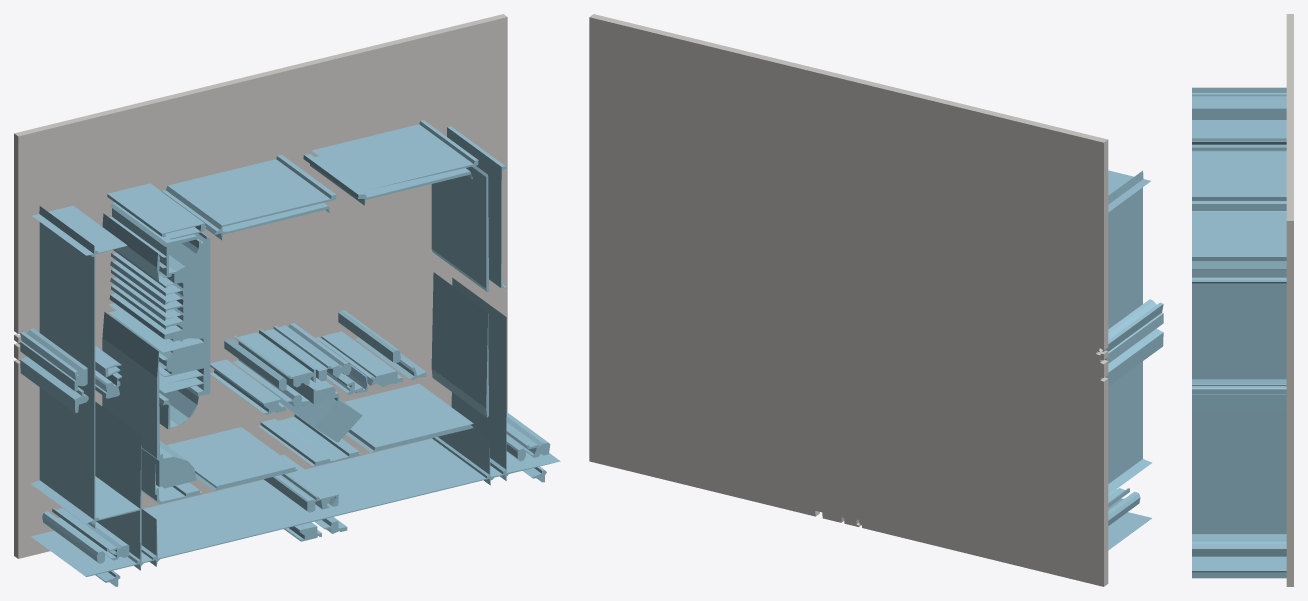
The picture shows the model from 3 angles, left to right: view 1: azimuth 30°, elevation 25°; view 2: azimuth 150°, elevation 25°; view 3: azimuth 270°, elevation 25°; orthographic projection. The views are drawn at different scales.
Visible parts, largest first — view 1: world; view 2: world; view 3: world.
Boxes of the visible parts, x1,y1,x2,y2 form: world: [14, 14, 560, 586]; world: [589, 14, 1163, 586]; world: [1192, 14, 1293, 586].
Bounding box in the file's own units: 10.23 × 8.44 × 2.13.
